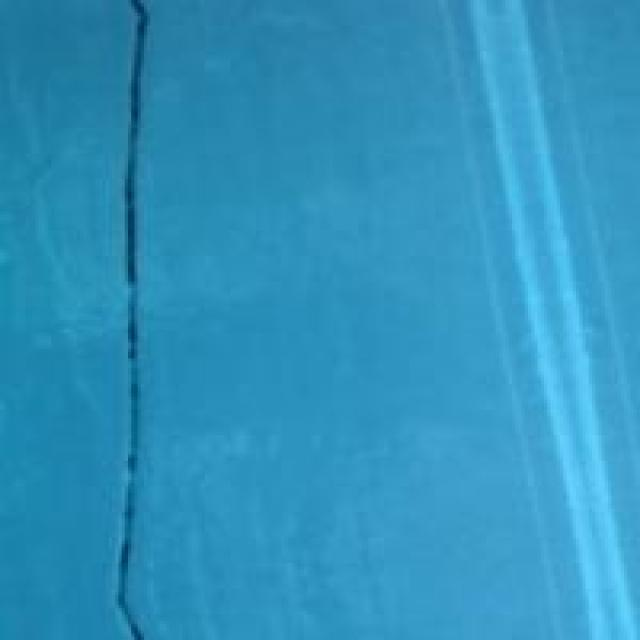crack: (84, 0, 278, 637)
